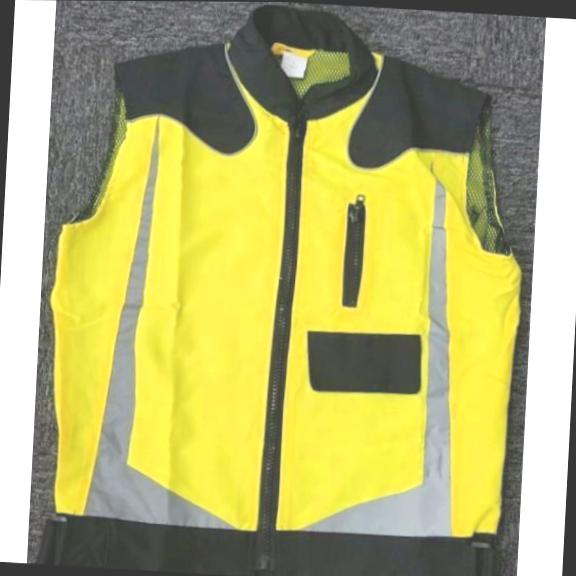safety_vest: (34, 0, 537, 576)
